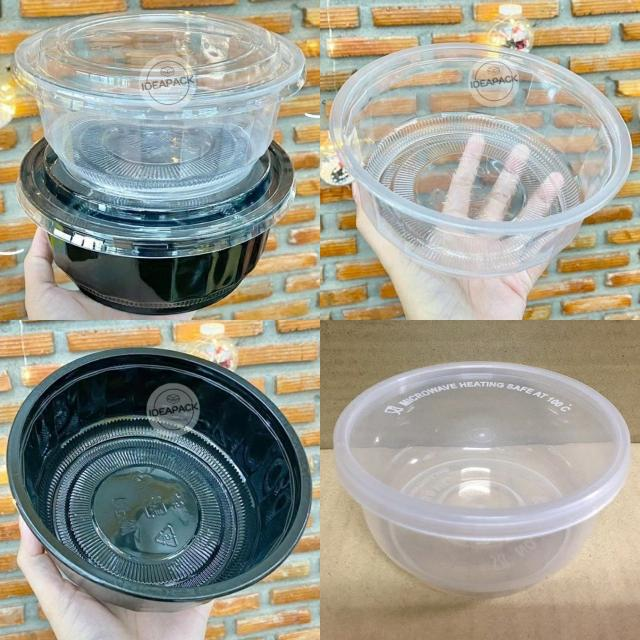Single-Use-Plastic: (8, 349, 311, 610), (330, 45, 631, 276), (334, 362, 630, 594), (14, 11, 305, 204), (18, 140, 295, 314)
